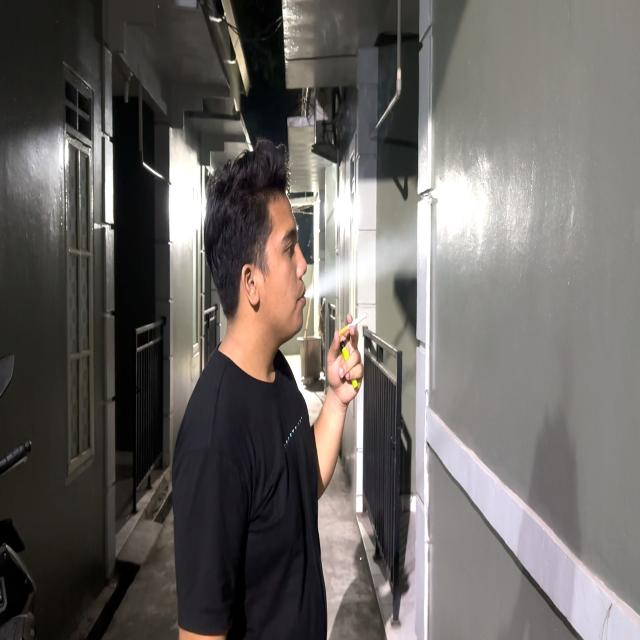cigarette: (334, 303, 373, 346)
smoking: (207, 125, 380, 518)
